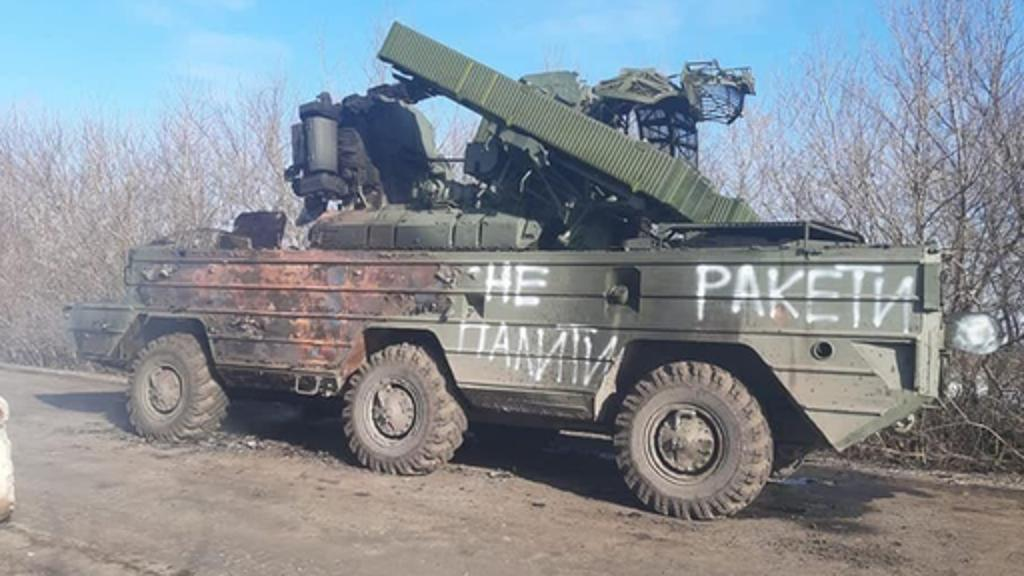MLRS: (52, 22, 956, 524)
